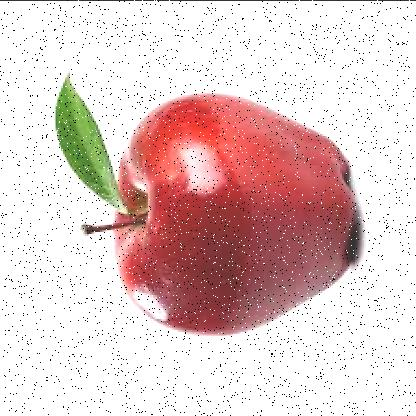apple: (118, 96, 368, 336)
